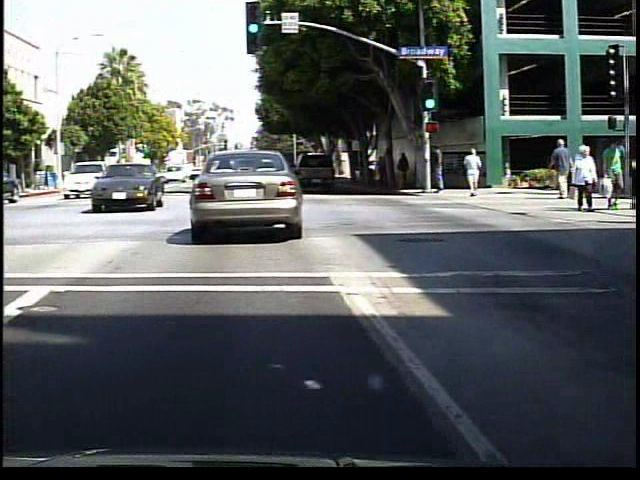person: (571, 141, 603, 214), (603, 141, 628, 212), (552, 140, 575, 200), (464, 145, 488, 201), (432, 142, 453, 200), (398, 150, 415, 191), (381, 154, 395, 189)
